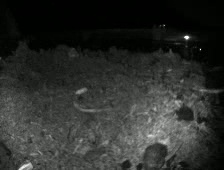corn: (14, 160, 35, 170), (74, 86, 89, 97)
